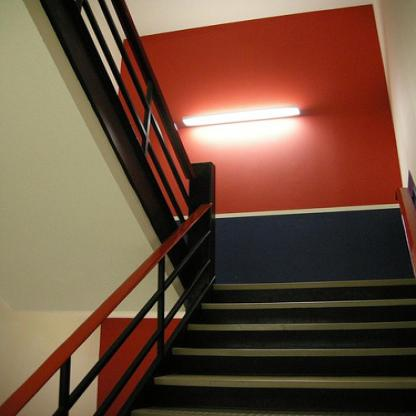stairs: (216, 272, 408, 416)
